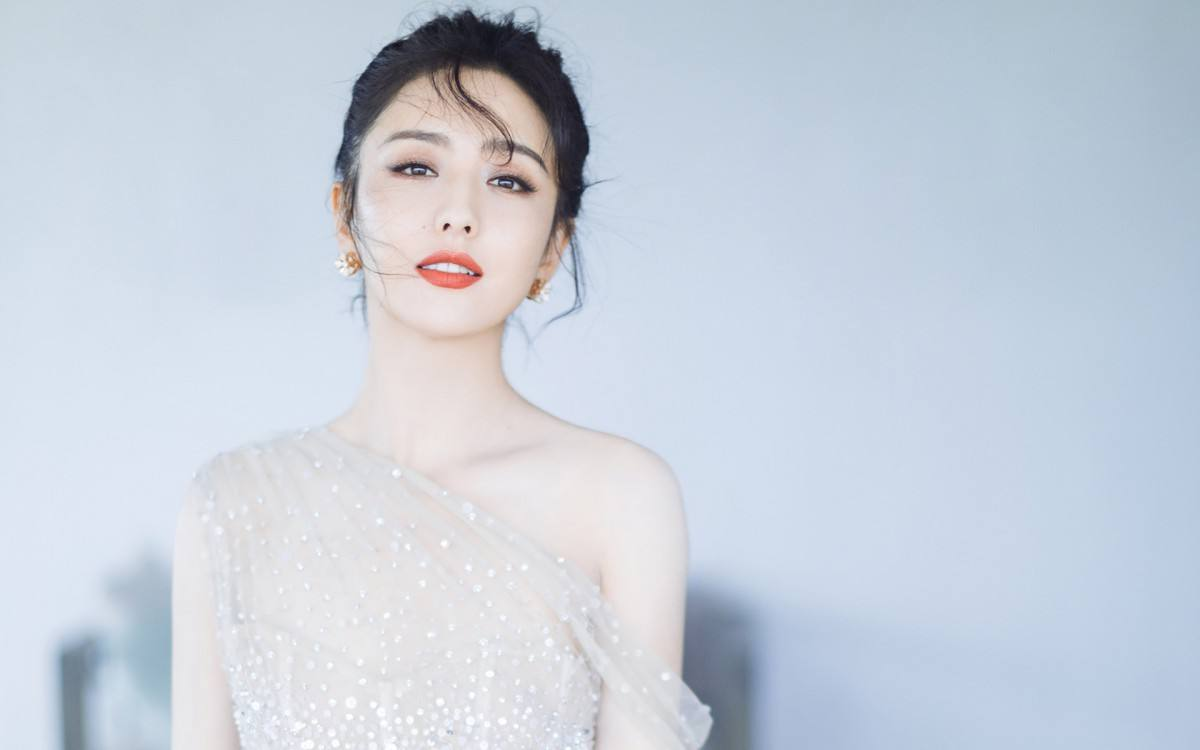person: (233, 8, 718, 663)
